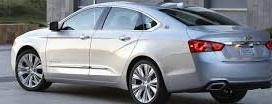Cars: (12, 3, 272, 104)
